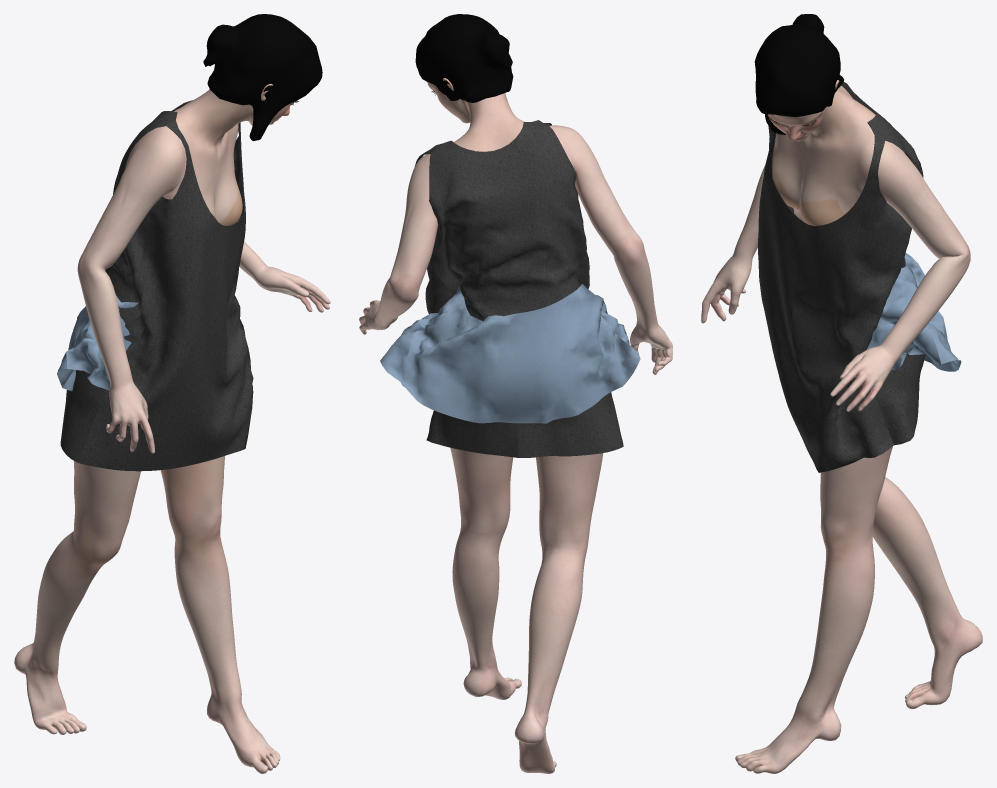
Rendered from random.obj.
The picture shows the model from 3 angles, left to right: view 1: azimuth 30°, elevation 25°; view 2: azimuth 150°, elevation 25°; view 3: azimuth 270°, elevation 25°; orthographic projection. The views are drawn at different scales.
Bounding box in the file's own units: 704 × 1739 × 590.
